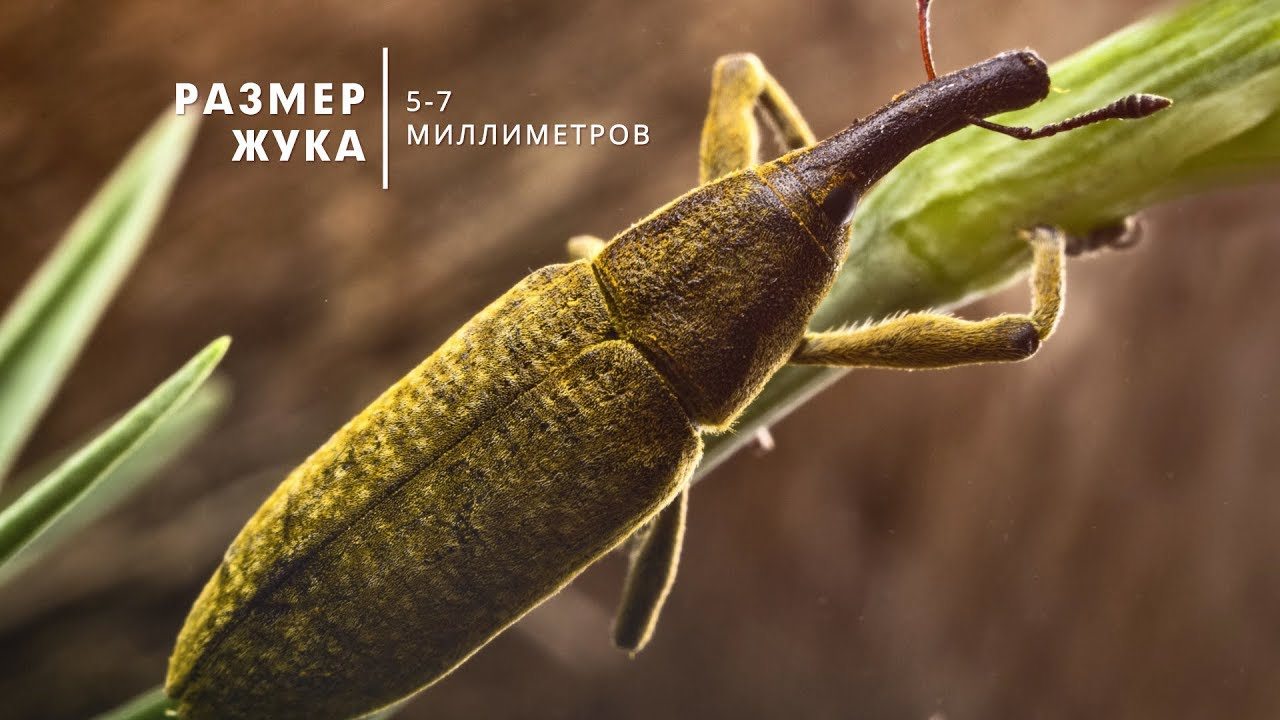dolgonosik: (143, 2, 1176, 717)
